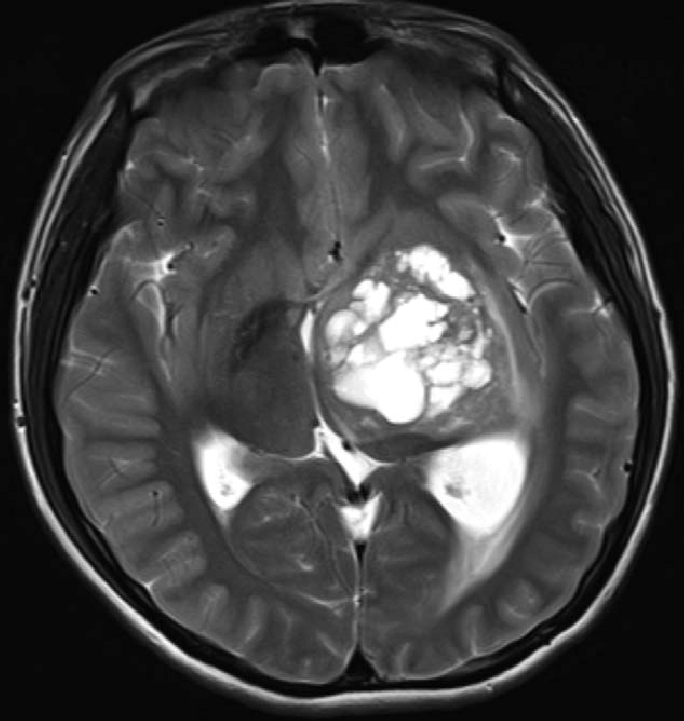tumor: (299, 248, 503, 428), (414, 437, 529, 611), (307, 438, 393, 543), (180, 428, 261, 510)
